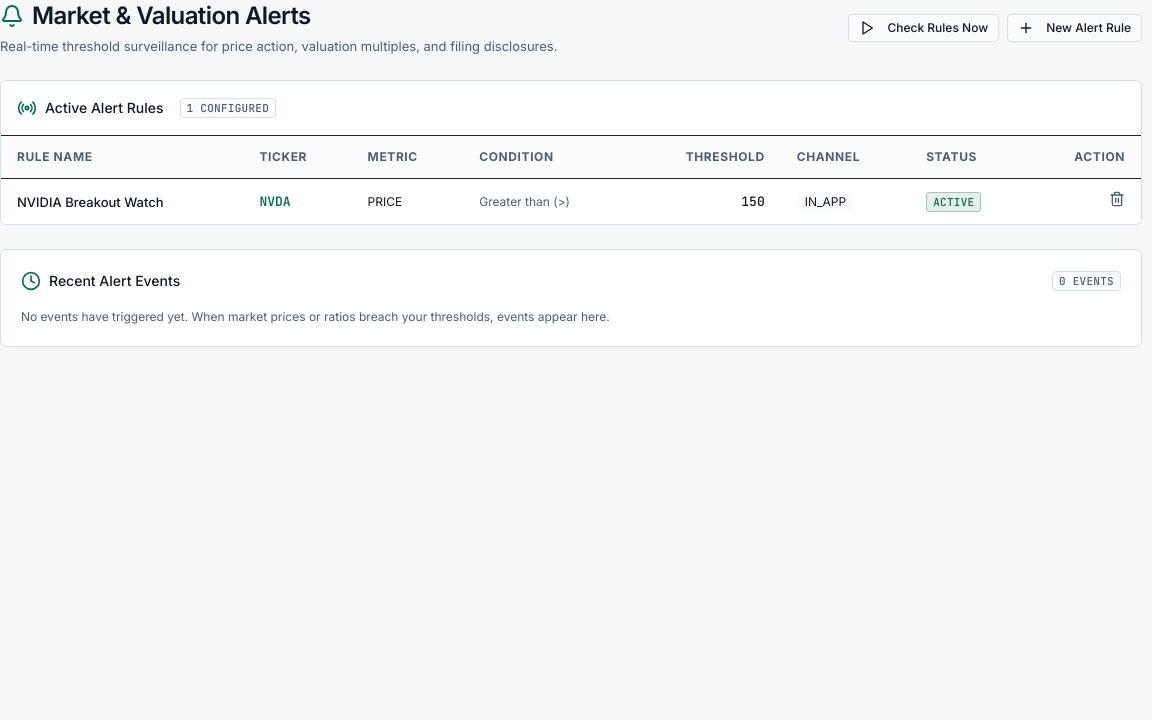
Test: Alerts Component › renders alert rules and open creation modal
Check: the heading "Market & Valuation Alerts" is shown, box top-left (32, 0), bottom-right (311, 32)
Check: the text "NVIDIA Breakout Watch" is shown, box top-left (1, 178), bottom-right (243, 224)
Step 1. Click the button with test id "create-alert-button" → [1075, 28], box top-left (1007, 14), bottom-right (1142, 42)
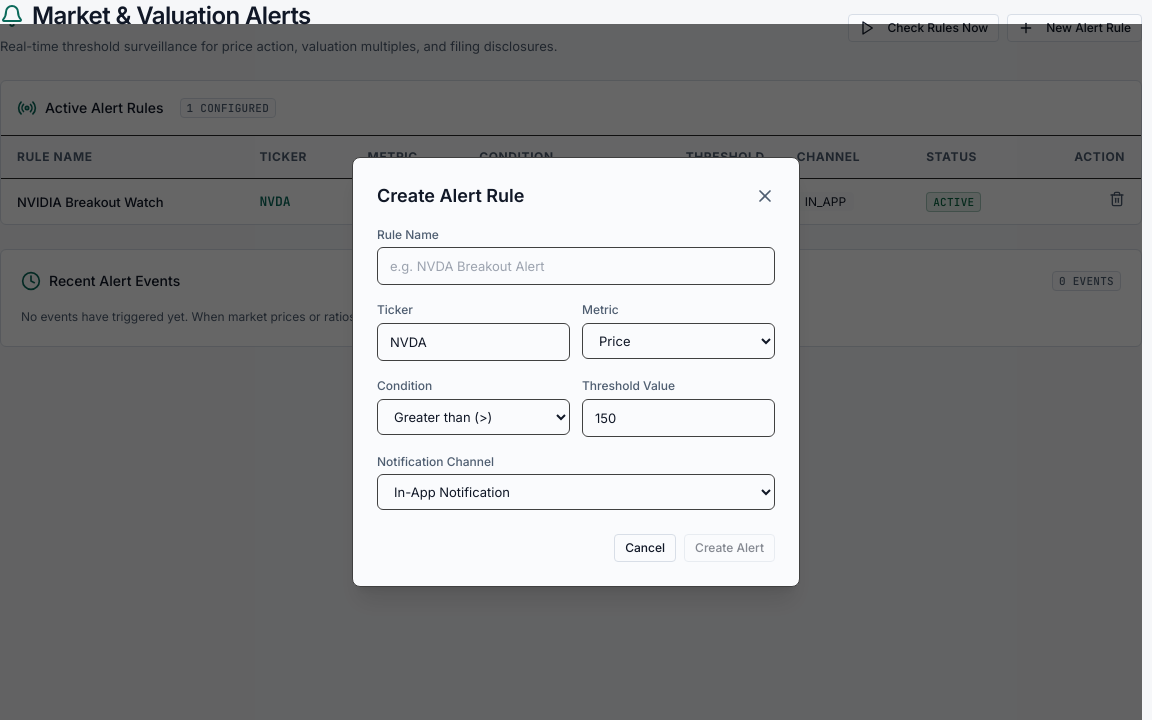
Check: the heading "Create Alert Rule" is shown, box top-left (377, 182), bottom-right (524, 210)
